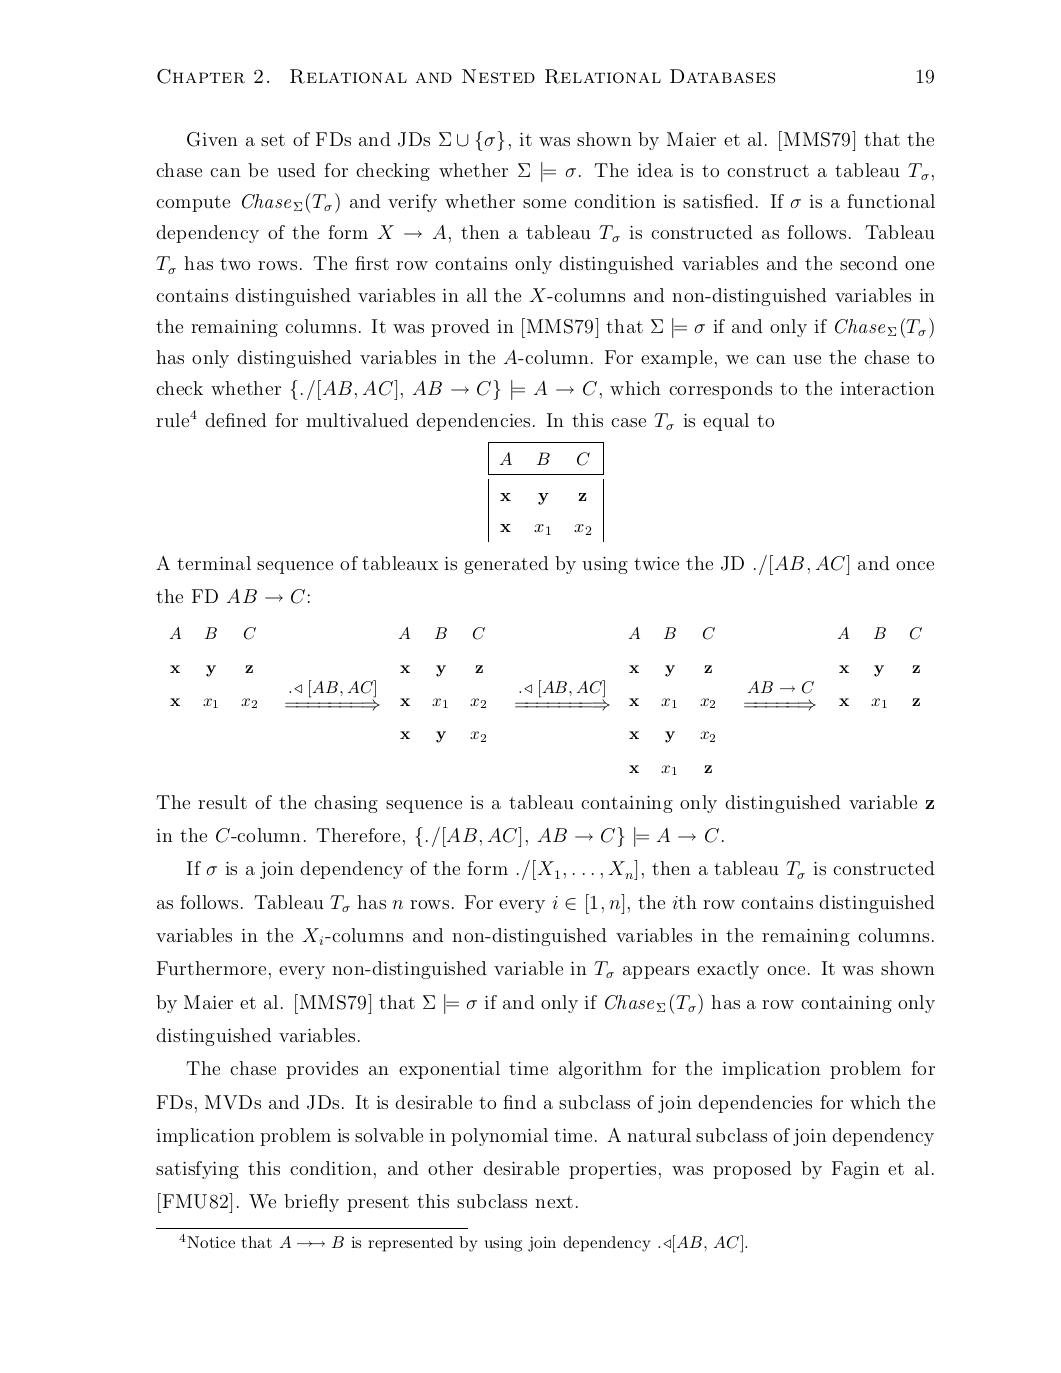figure: (488, 442, 603, 541)
formula: (169, 627, 921, 775)
